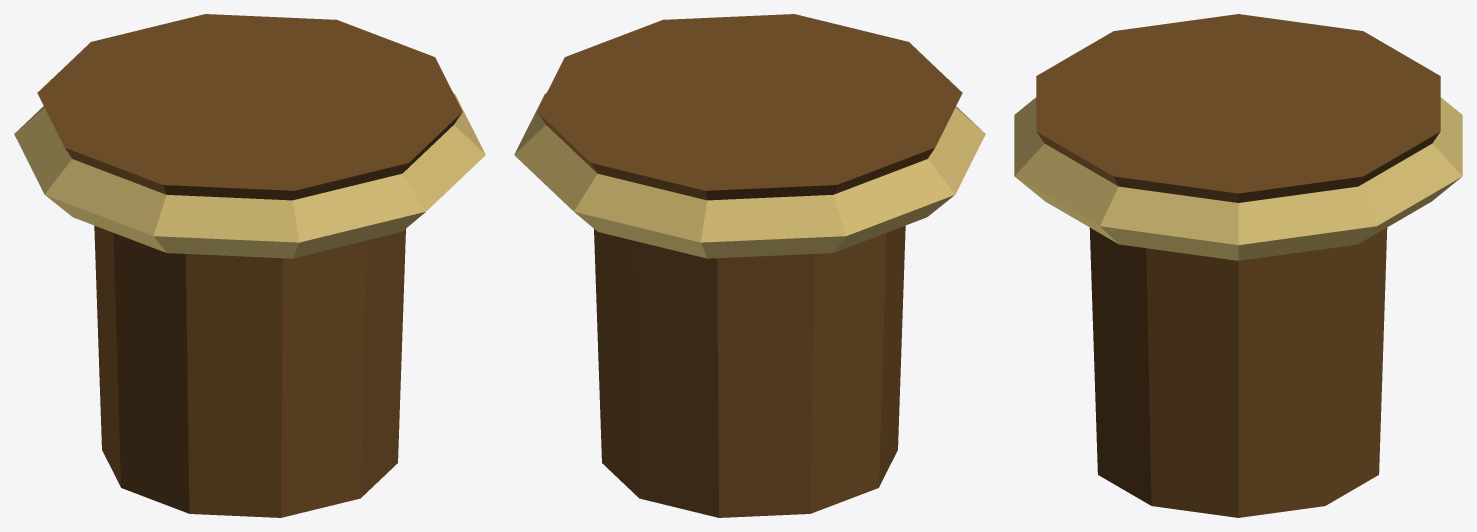
Rendered from bronze_neck.obj.
The picture shows the model from 3 angles, left to right: view 1: azimuth 30°, elevation 25°; view 2: azimuth 150°, elevation 25°; view 3: azimuth 270°, elevation 25°; orthographic projection.
Parts seen in each view (by area): view 1: bronze_neck, neck_edge; view 2: bronze_neck, neck_edge; view 3: bronze_neck, neck_edge.
Part boxes in pixels (x1,y1,x2,y2): bronze_neck: [37, 14, 462, 517]; neck_edge: [14, 93, 485, 258]; bronze_neck: [537, 14, 962, 517]; neck_edge: [514, 93, 985, 258]; bronze_neck: [1036, 14, 1440, 517]; neck_edge: [1014, 97, 1462, 260].
Size of the model in its own units: 0.51 by 0.42 by 0.485.
